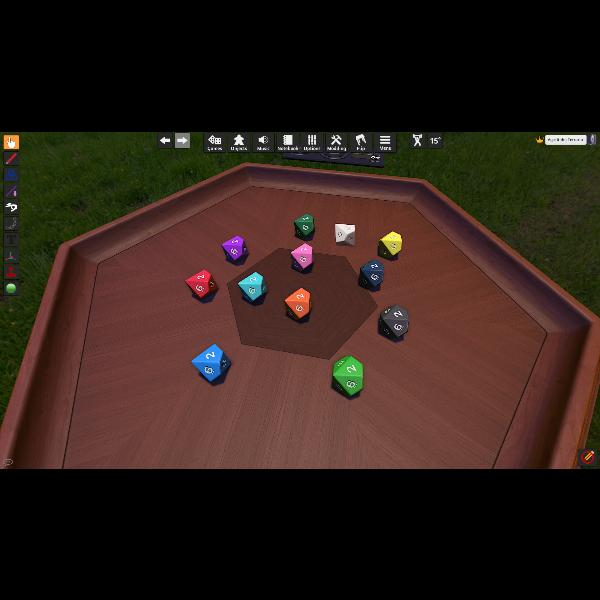d10: (192, 342, 232, 380), (332, 356, 362, 397), (378, 305, 408, 338), (186, 268, 218, 298), (240, 271, 268, 301), (284, 288, 310, 320), (221, 234, 247, 262), (358, 259, 384, 287), (378, 231, 402, 259), (291, 242, 313, 270), (294, 213, 314, 237), (335, 223, 354, 245)
